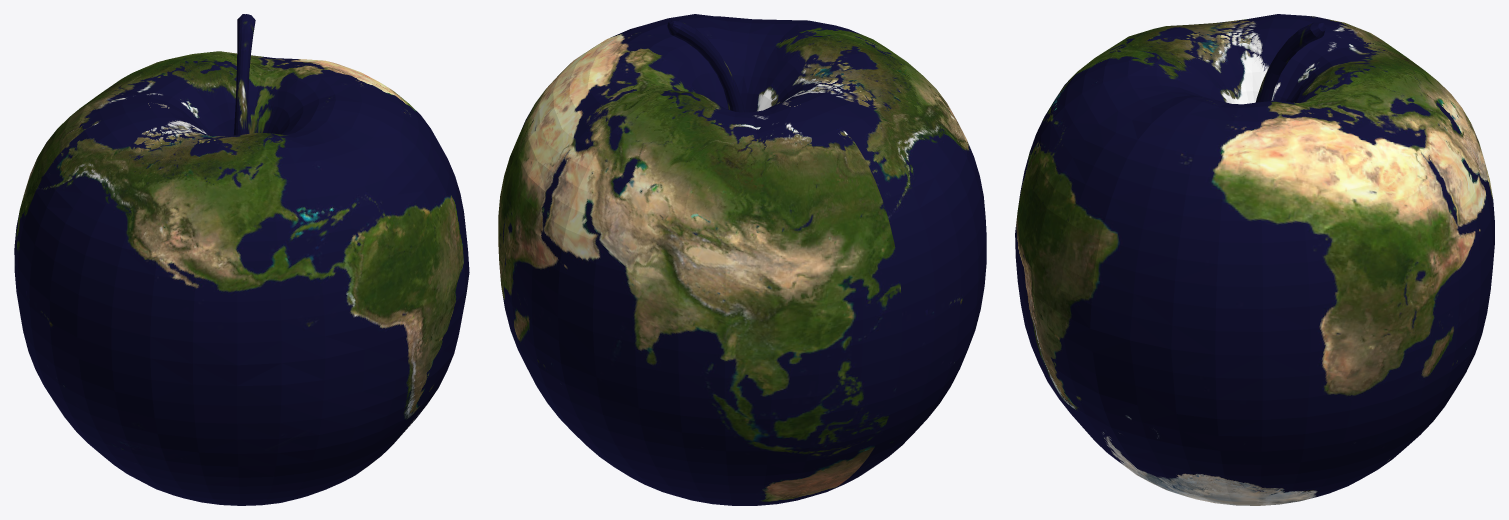
The model's file is apple.obj.
3 views of the same model, side by side, from view 1: azimuth 30°, elevation 25°; view 2: azimuth 150°, elevation 25°; view 3: azimuth 270°, elevation 25° (orthographic). The views are drawn at different scales.
Parts seen in each view (by area): view 1: apple; view 2: apple; view 3: apple.
Part boxes in pixels (x1,y1,x2,y2): apple: (14, 14, 469, 505); apple: (498, 14, 986, 505); apple: (1015, 14, 1494, 505).
Size of the model in its own units: 0.9702 by 1 by 0.9436.
1 material, 1 textured.
